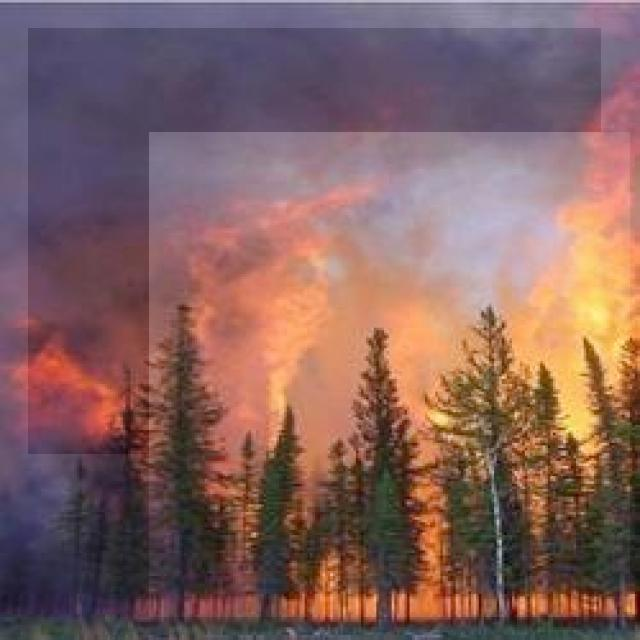Fire: (149, 132, 630, 617)
Smoke: (28, 28, 601, 454)
